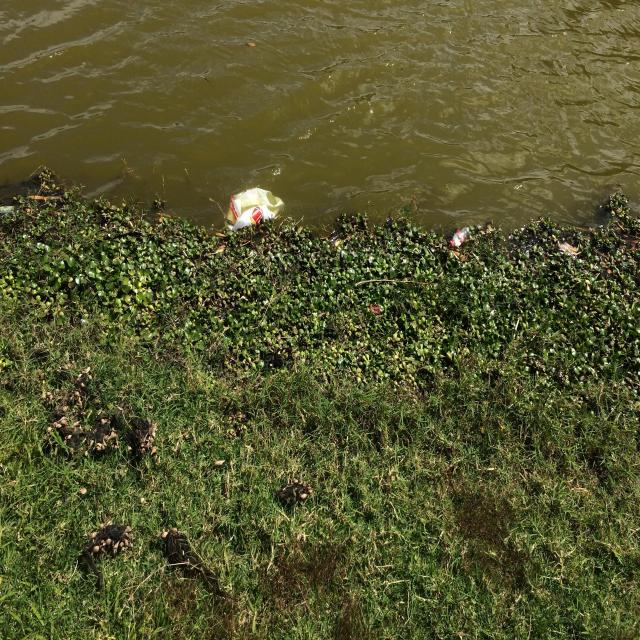Clear plastic bottle: (449, 227, 471, 247)
Plastic bottle cap: (449, 241, 454, 247)
Single-use carrier bag: (226, 188, 284, 230)
Unlabeled litter: (0, 206, 15, 216)
